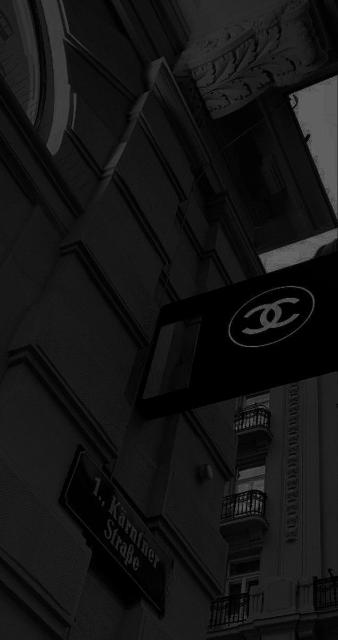Chanel: (222, 280, 322, 352)
